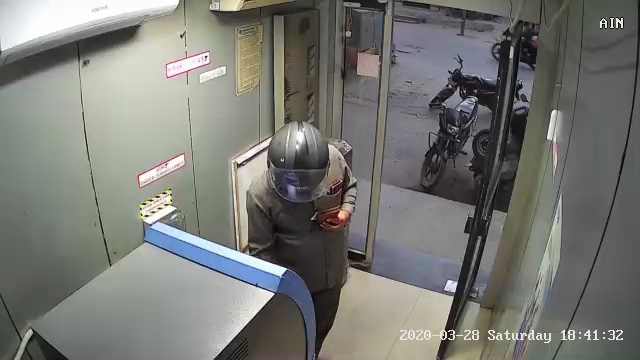helmet: (265, 120, 338, 207)
